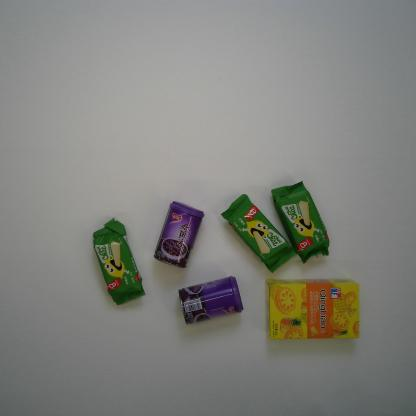Canned Food: (153, 200, 205, 269), (178, 275, 244, 326)
Dessert: (220, 193, 298, 274), (263, 278, 360, 340), (271, 180, 330, 264), (93, 218, 146, 306)
